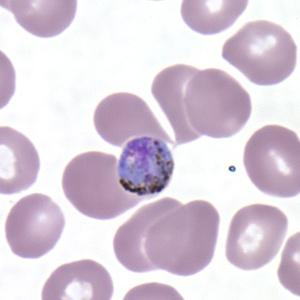Infected: (117, 135, 174, 196)
Uninfected: (144, 200, 220, 277), (62, 150, 137, 221), (113, 197, 182, 272), (222, 19, 296, 86), (183, 68, 250, 139), (92, 91, 172, 146), (152, 63, 206, 142), (226, 203, 286, 271), (244, 126, 300, 197), (7, 193, 65, 260), (41, 259, 112, 300), (0, 126, 40, 194), (179, 0, 249, 36), (12, 0, 78, 38)
